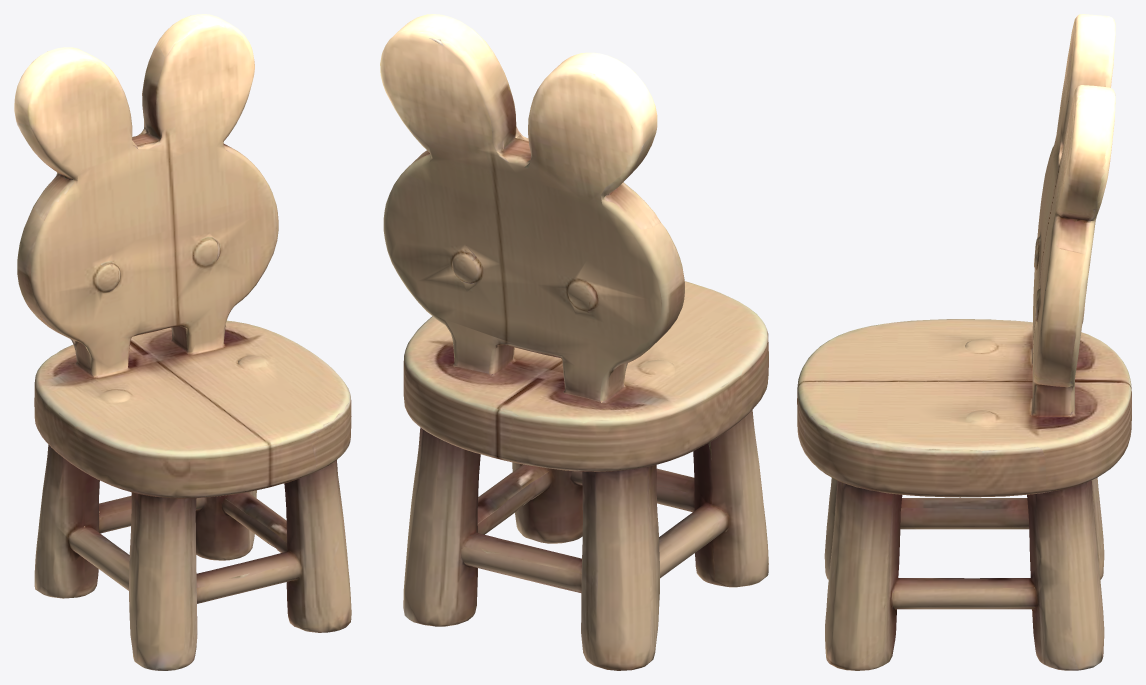
Rendered from Rabbit_chair.glb.
3 renders of one model, left to right at view 1: azimuth 30°, elevation 25°; view 2: azimuth 150°, elevation 25°; view 3: azimuth 270°, elevation 25°, orthographic. The views are drawn at different scales.
Visible parts, largest first — view 1: Mesh_0; view 2: Mesh_0; view 3: Mesh_0.
Boxes of the visible parts, x1,y1,x2,y2 form: Mesh_0: (14,14,351,670); Mesh_0: (380,14,768,670); Mesh_0: (797,14,1131,670).
Size of the model in its own units: 0.9706 by 1.91 by 1.03.
Materials: 1 (1 with a texture image).
